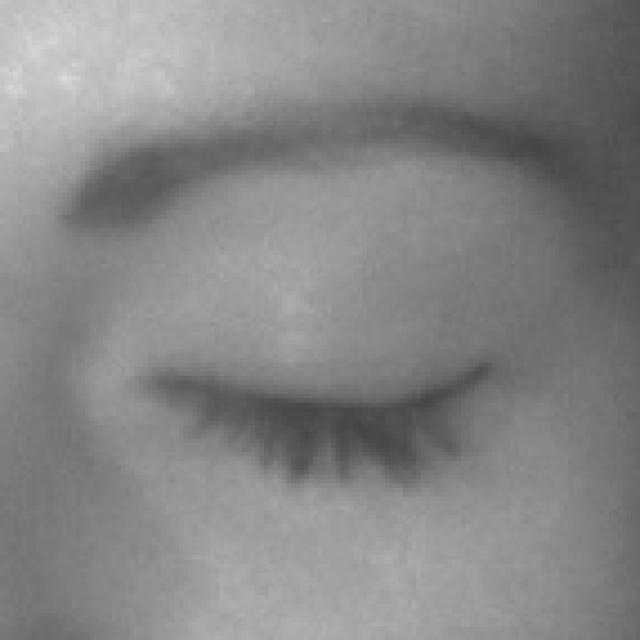Eyeclosed: (121, 227, 493, 618)
